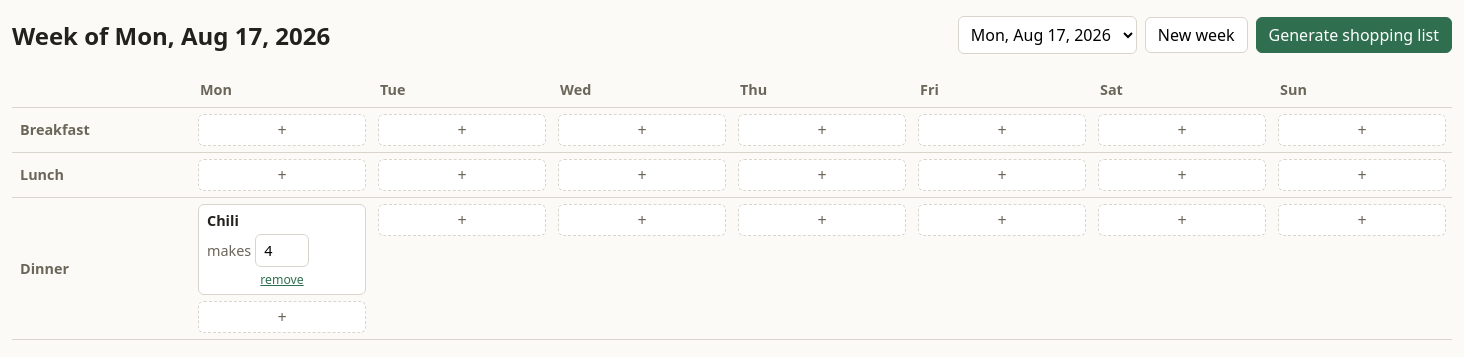
Test: PlannerPage servings input › reverts to the last known-good value on blur instead of sending a non-finite amount
The width and height of the screenshot is (1464, 357).
Clear the number field named "servings for chili": (282, 250) [255,234,309,267]
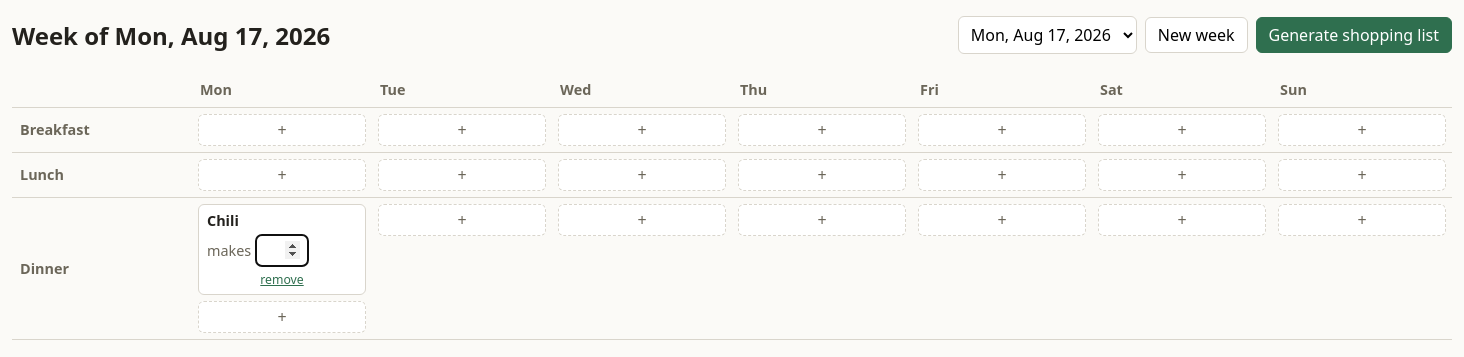
Press Tab
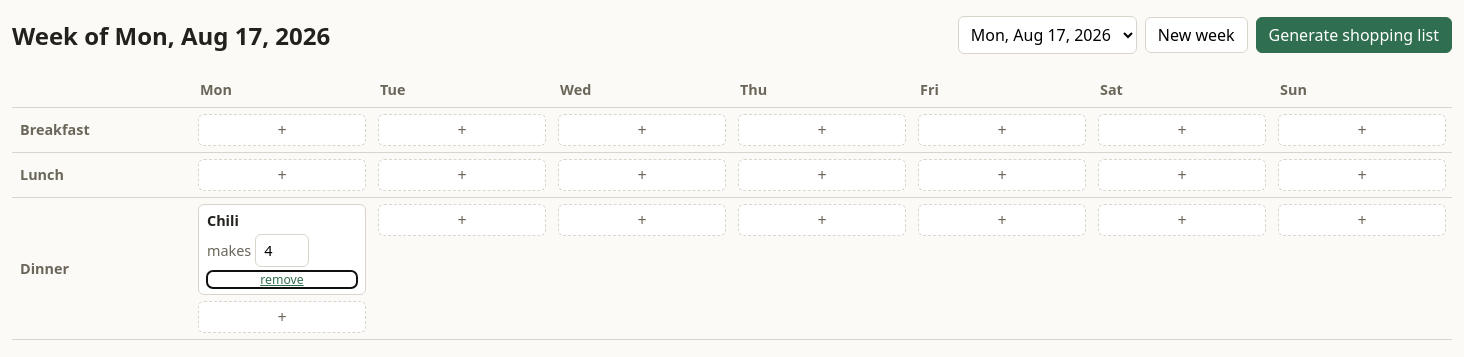
Expected: the number field named "servings for chili" holds "4", [255,234,309,267]
